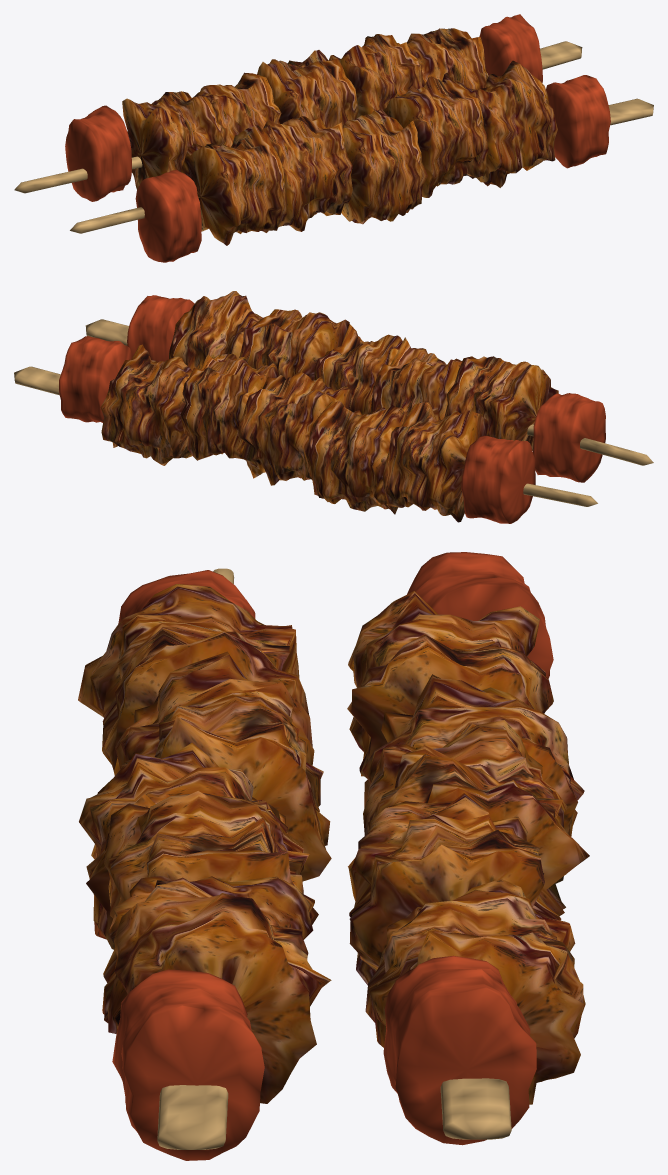
The model's file is rustic-chicken-skewers.glb.
3 renders of one model, top to bottom at view 1: azimuth 30°, elevation 25°; view 2: azimuth 150°, elevation 25°; view 3: azimuth 270°, elevation 25°, orthographic. The views are drawn at different scales.
Parts seen in each view (by area): view 1: Glazed chicken, Glazed chicken.002, Glazed chicken.003, Glazed chicken.004, Glazed chicken.001, Glazed chicken.005, Glazed chicken.007, Red pepper, Red pepper.002, Red pepper.001, Glazed chicken.008, Glazed chicken.009 (+4 smaller); view 2: Glazed chicken.005, Glazed chicken.006, Glazed chicken.009, Glazed chicken.007, Glazed chicken.008, Glazed chicken, Red pepper.002, Red pepper, Glazed chicken.003, Glazed chicken.004, Glazed chicken.001, Red pepper.003 (+4 smaller); view 3: Glazed chicken.004, Glazed chicken.009, Glazed chicken.001, Red pepper.003, Glazed chicken.008, Red pepper.001, Glazed chicken, Glazed chicken.005, Glazed chicken.007, Glazed chicken.003, Glazed chicken.006, Glazed chicken.002 (+4 smaller).
Boxes of the visible parts, x1=… form: Glazed chicken: x1=181, y1=125, x2=286, y2=245; Glazed chicken.002: x1=341, y1=108, x2=427, y2=224; Glazed chicken.003: x1=383, y1=73, x2=488, y2=197; Glazed chicken.004: x1=455, y1=60, x2=557, y2=187; Glazed chicken.001: x1=263, y1=116, x2=352, y2=231; Glazed chicken.005: x1=122, y1=91, x2=225, y2=189; Glazed chicken.007: x1=257, y1=50, x2=358, y2=127; Red pepper: x1=135, y1=169, x2=201, y2=262; Red pepper.002: x1=65, y1=105, x2=131, y2=201; Red pepper.001: x1=546, y1=75, x2=610, y2=168; Glazed chicken.008: x1=328, y1=34, x2=423, y2=118; Glazed chicken.009: x1=397, y1=28, x2=487, y2=89; Glazed chicken.005: x1=383, y1=402, x2=489, y2=522; Glazed chicken.006: x1=306, y1=400, x2=406, y2=514; Glazed chicken.009: x1=100, y1=344, x2=192, y2=465; Glazed chicken.007: x1=237, y1=372, x2=351, y2=485; Glazed chicken.008: x1=180, y1=353, x2=278, y2=460; Glazed chicken: x1=444, y1=356, x2=558, y2=450; Red pepper.002: x1=461, y1=435, x2=535, y2=523; Red pepper: x1=533, y1=393, x2=605, y2=482; Glazed chicken.003: x1=239, y1=309, x2=349, y2=380; Glazed chicken.004: x1=169, y1=291, x2=262, y2=370; Glazed chicken.001: x1=371, y1=337, x2=461, y2=419; Red pepper.003: x1=59, y1=336, x2=132, y2=422; Glazed chicken.004: x1=102, y1=876, x2=331, y2=1103; Glazed chicken.009: x1=365, y1=879, x2=585, y2=1104; Glazed chicken.001: x1=114, y1=651, x2=331, y2=881; Red pepper.003: x1=383, y1=955, x2=536, y2=1145; Glazed chicken.008: x1=348, y1=793, x2=561, y2=985; Red pepper.001: x1=112, y1=969, x2=264, y2=1160; Glazed chicken: x1=78, y1=584, x2=314, y2=771; Glazed chicken.005: x1=347, y1=591, x2=553, y2=778; Glazed chicken.007: x1=348, y1=720, x2=589, y2=915; Glazed chicken.003: x1=104, y1=791, x2=318, y2=932; Glazed chicken.006: x1=362, y1=674, x2=584, y2=883; Glazed chicken.002: x1=79, y1=742, x2=287, y2=949.
Bounding box in the file's own units: 4 × 0.7573 × 1.54.
3 materials, 1 textured.
